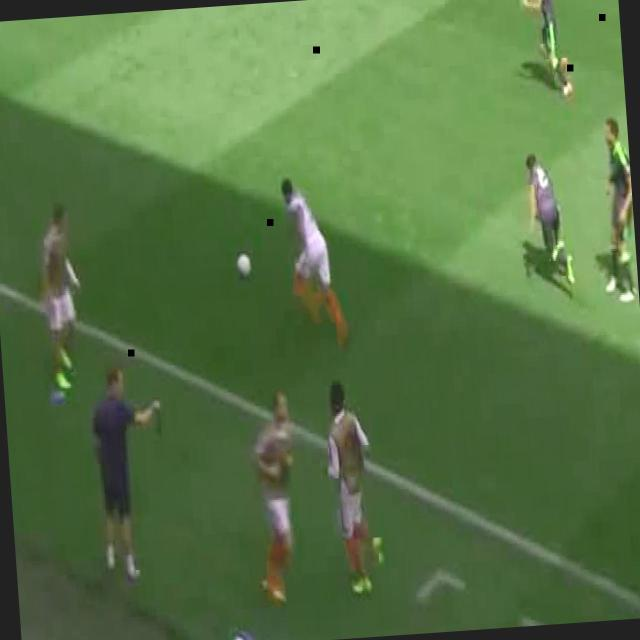ball: (237, 250, 253, 276)
player-white: (89, 368, 171, 583), (318, 376, 386, 600), (247, 390, 306, 606), (281, 173, 351, 350), (35, 204, 89, 403), (594, 114, 639, 300), (524, 149, 575, 286), (521, 0, 575, 98)
